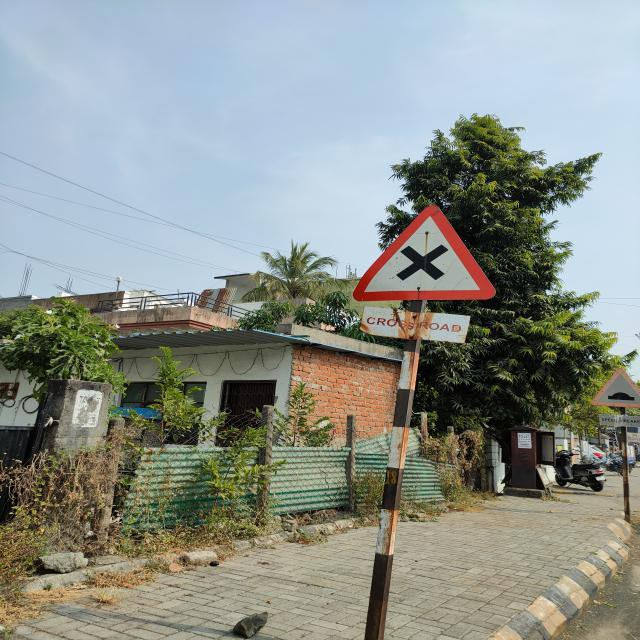cross road: (352, 199, 501, 306)
